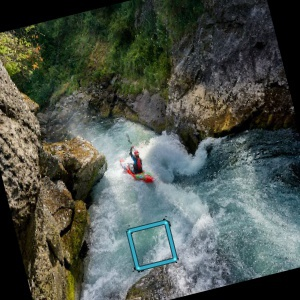square: (124, 219, 181, 272)
